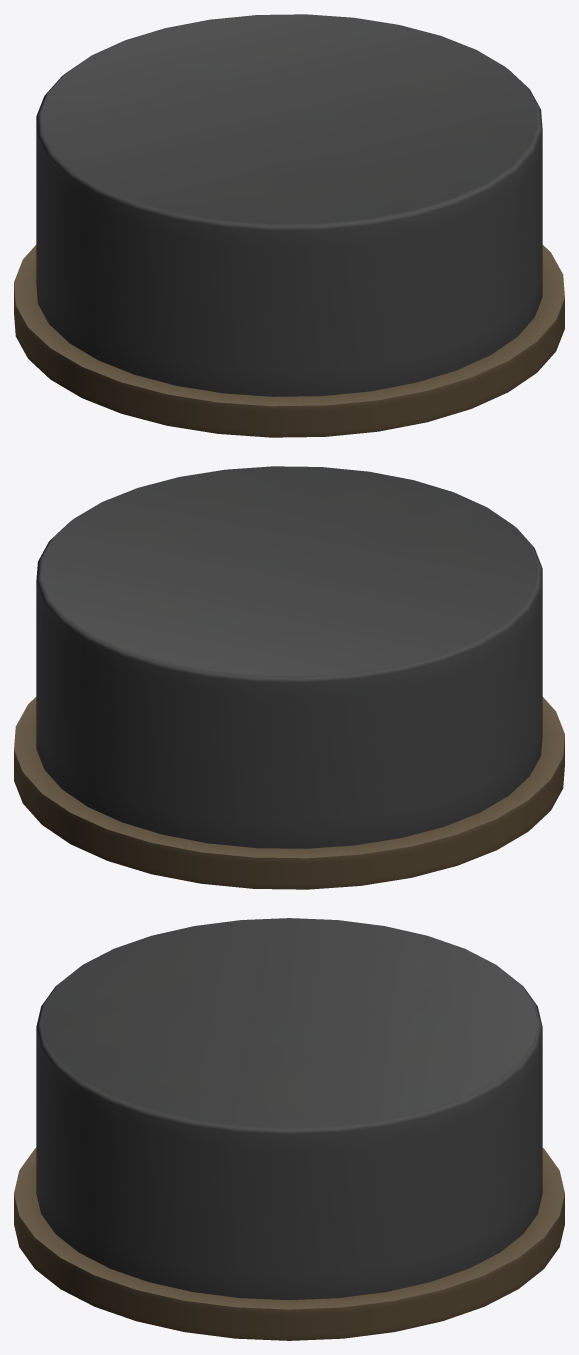
Rendered from Base_Rnd_3x3.fbx.
The picture shows the model from 3 angles, top to bottom: view 1: azimuth 30°, elevation 25°; view 2: azimuth 150°, elevation 25°; view 3: azimuth 270°, elevation 25°; orthographic projection.
Visible parts, largest first — view 1: Base_Rnd_3x3; view 2: Base_Rnd_3x3; view 3: Base_Rnd_3x3.
Boxes of the visible parts, box(x1,y1,x2,y2) form: Base_Rnd_3x3: box(14, 14, 564, 437); Base_Rnd_3x3: box(14, 466, 564, 889); Base_Rnd_3x3: box(14, 918, 564, 1340).
Bounding box in the file's own units: 185 × 74.48 × 185.
